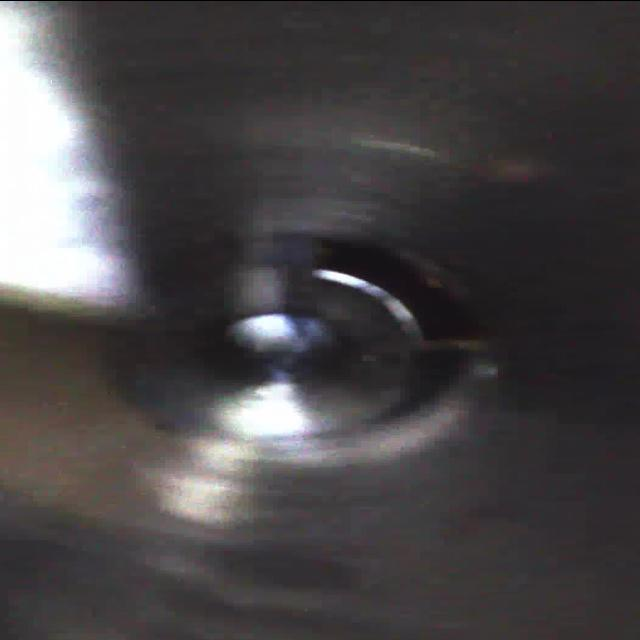hole: (300, 226, 497, 352)
